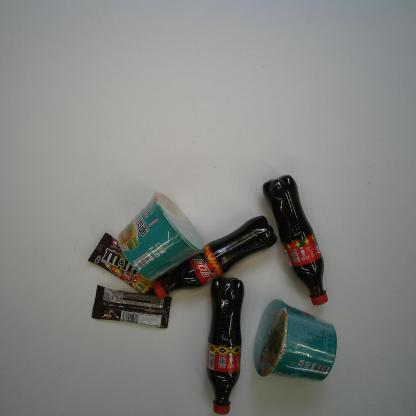Chocolate: (88, 233, 158, 294), (91, 284, 172, 329)
Drink: (154, 214, 278, 300), (261, 173, 328, 307), (204, 275, 245, 416)
Instant Noodles: (116, 191, 206, 281), (252, 298, 338, 384)
